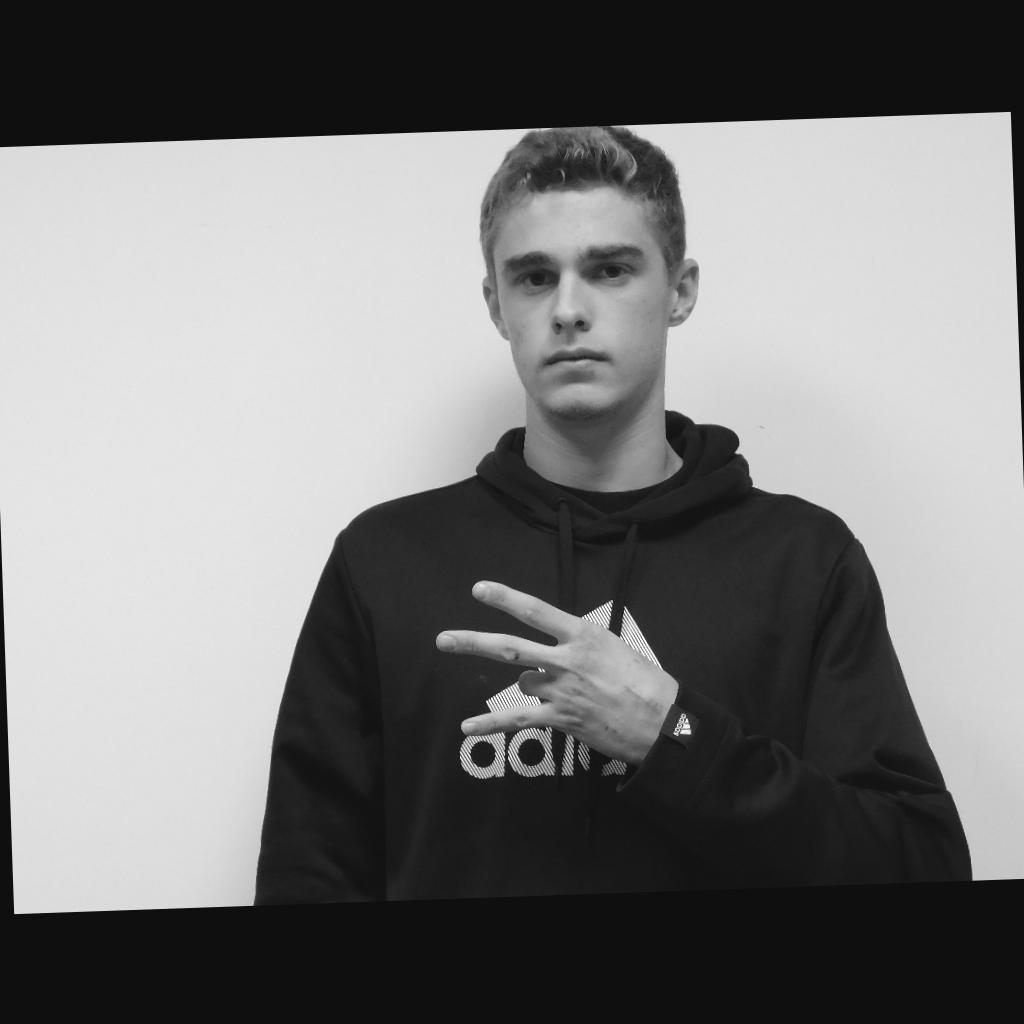like: (434, 572, 677, 763)
